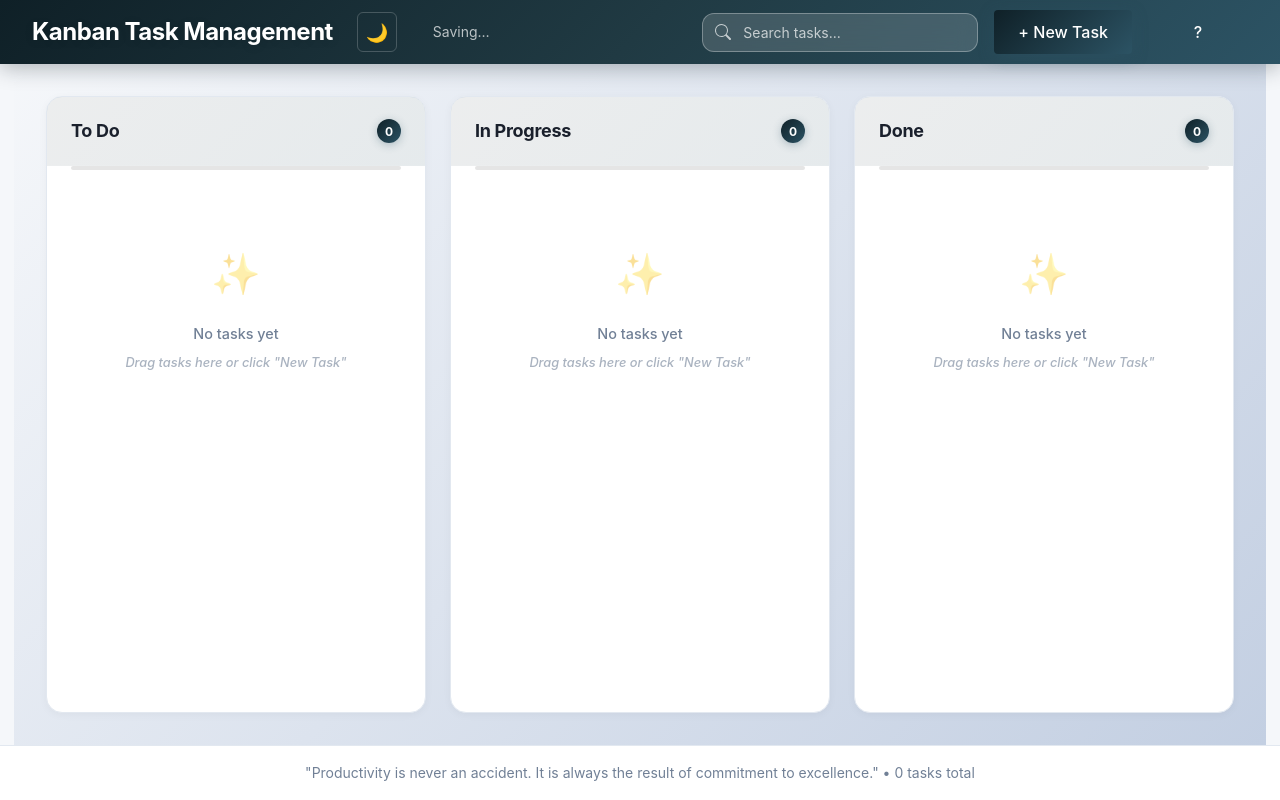
Test: App Integration Tests › Task Creation Flow › saves task to LocalStorage after creation
The image size is (1280, 800).
// Create a task
Click the button with aria-label "Create new task".
click(1063, 32)  # box [994,10,1132,54]
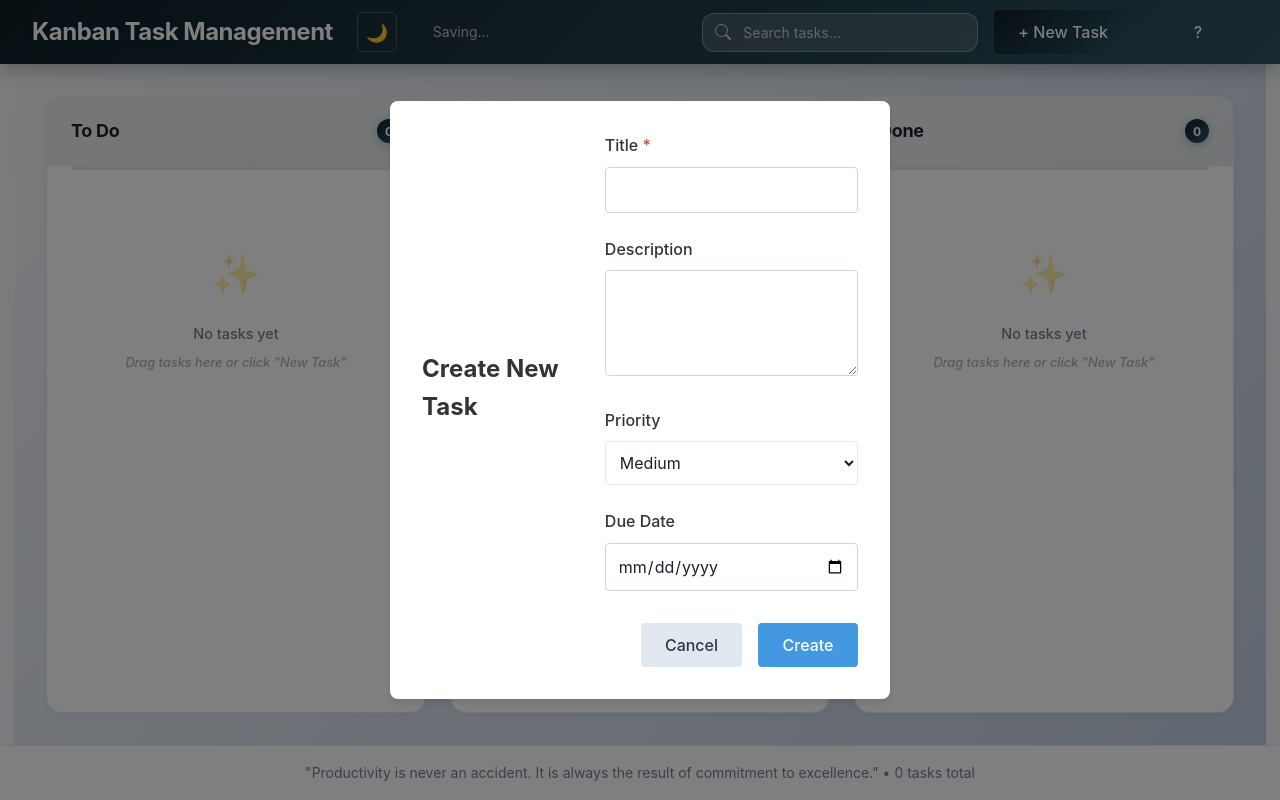
Expected: the field named "Task title" is shown
Type "Task to Save" into the field named "Task title".
click(731, 190); type("Task to Save")  # box [605,167,858,213]
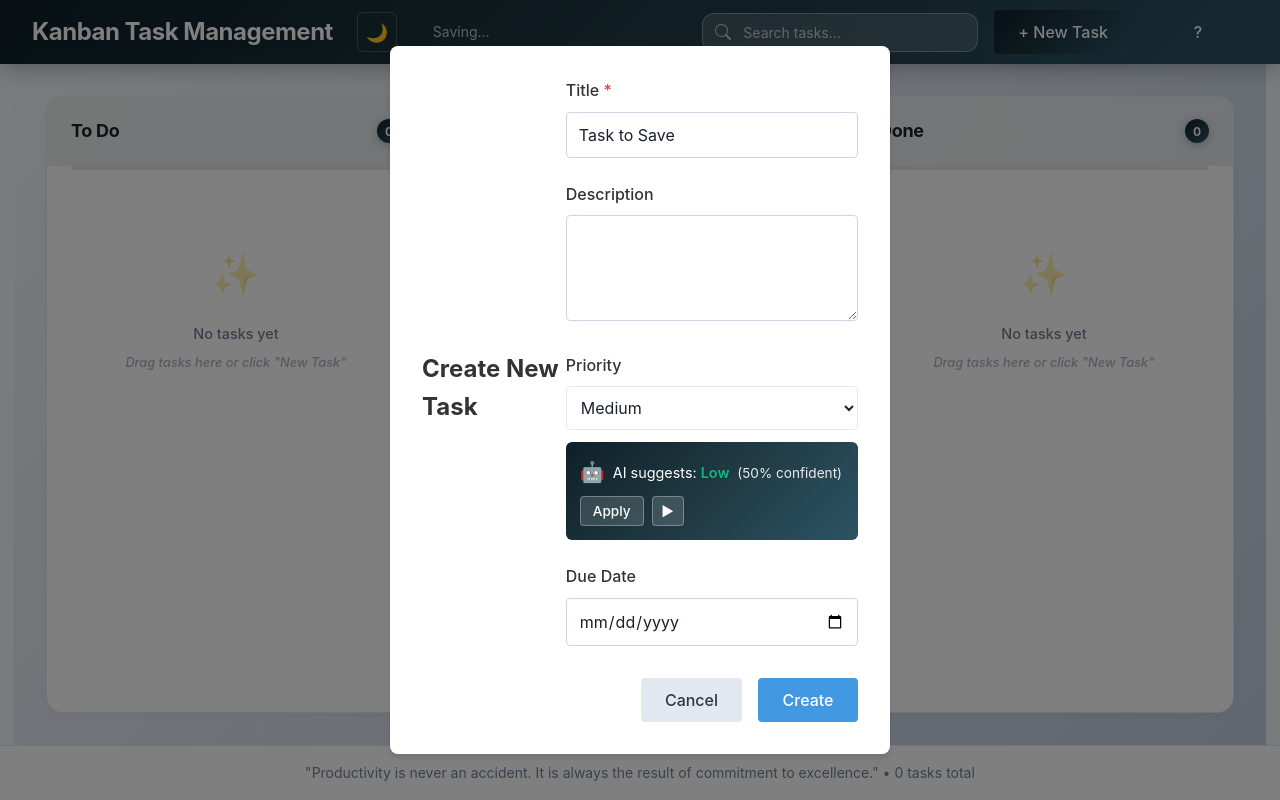
Click the button with aria-label "Create Task".
click(808, 700)  # box [758,678,858,722]
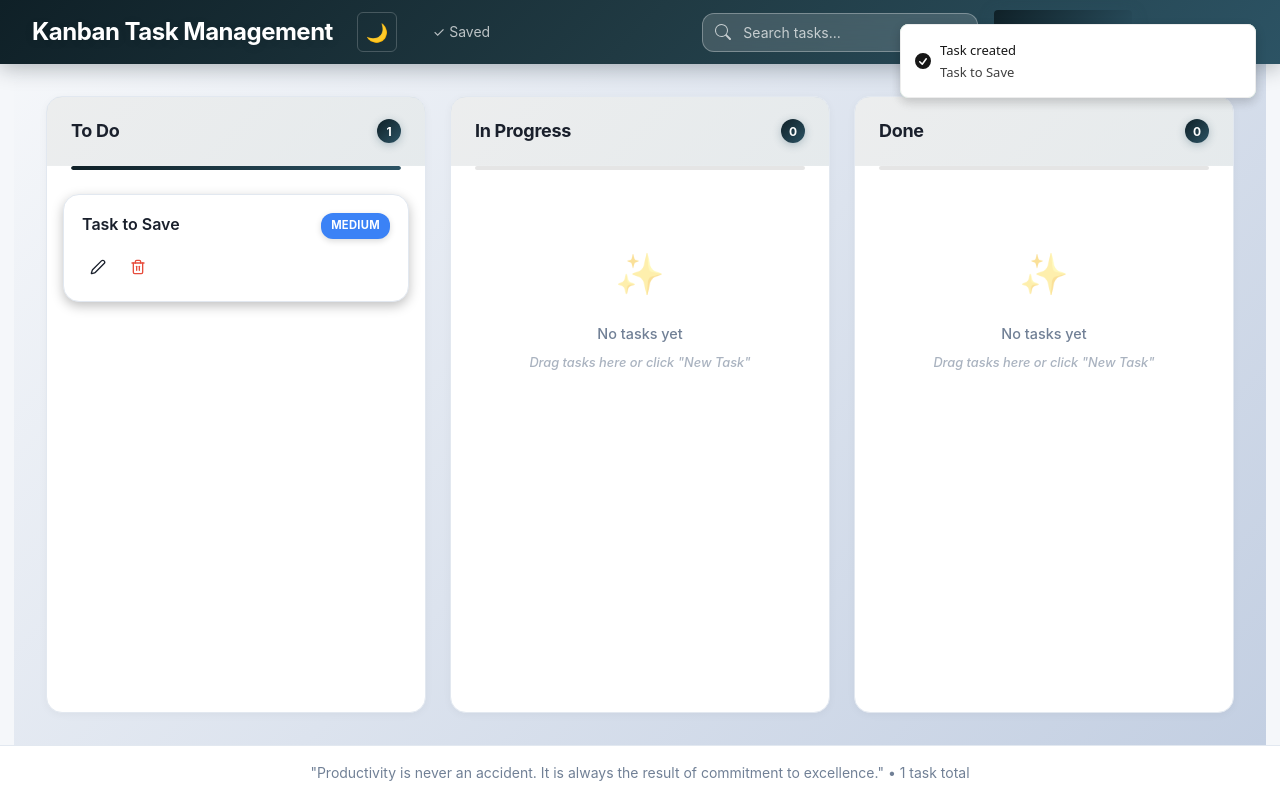
Expected: the heading "Task to Save" is shown, [82,214,180,234]
Expected: the 1st text "Task to Save" is shown, [940,62,1016,81]
